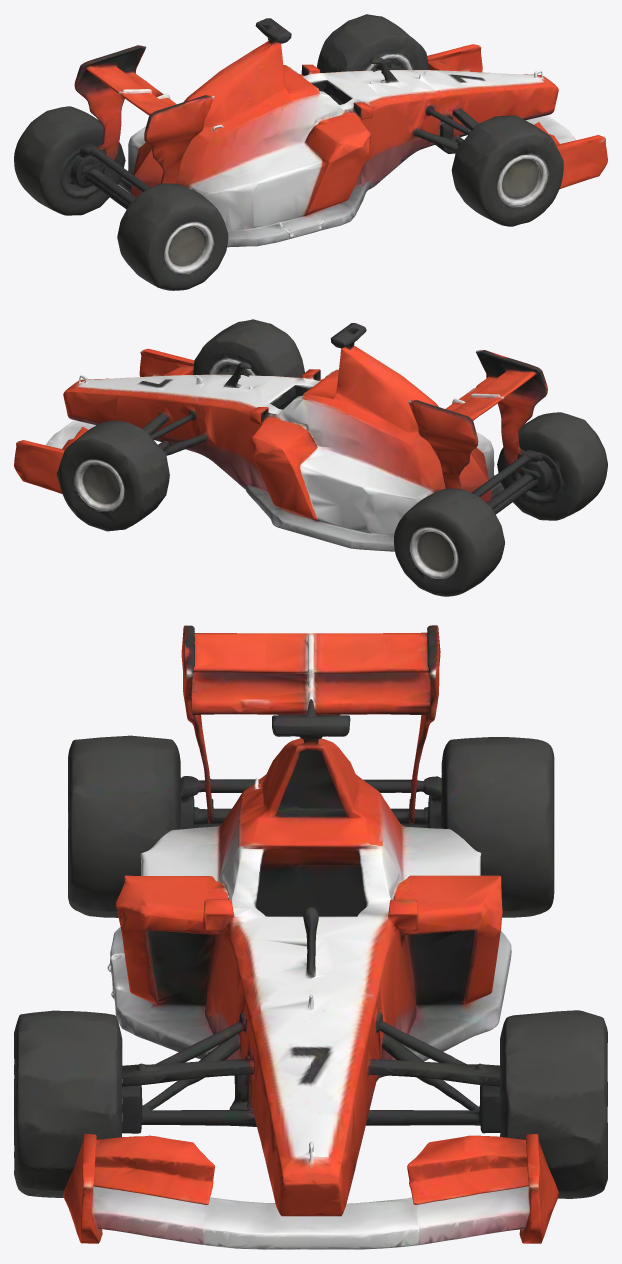
Rendered from f1car.glb.
3 renders of one model, top to bottom at view 1: azimuth 30°, elevation 25°; view 2: azimuth 150°, elevation 25°; view 3: azimuth 270°, elevation 25°, orthographic. The views are drawn at different scales.
Parts seen in each view (by area): view 1: tripo_node_679fa46a-a8e0-49bc-8eb7-b6096abb4050; view 2: tripo_node_679fa46a-a8e0-49bc-8eb7-b6096abb4050; view 3: tripo_node_679fa46a-a8e0-49bc-8eb7-b6096abb4050.
Boxes of the visible parts, left/top/right/bottom form: tripo_node_679fa46a-a8e0-49bc-8eb7-b6096abb4050: left=14, top=14, right=607, bottom=290; tripo_node_679fa46a-a8e0-49bc-8eb7-b6096abb4050: left=14, top=319, right=607, bottom=596; tripo_node_679fa46a-a8e0-49bc-8eb7-b6096abb4050: left=14, top=625, right=607, bottom=1249.
Size of the model in its own units: 0.9999 by 0.3766 by 0.6051.
Materials: 1 (1 with a texture image).
